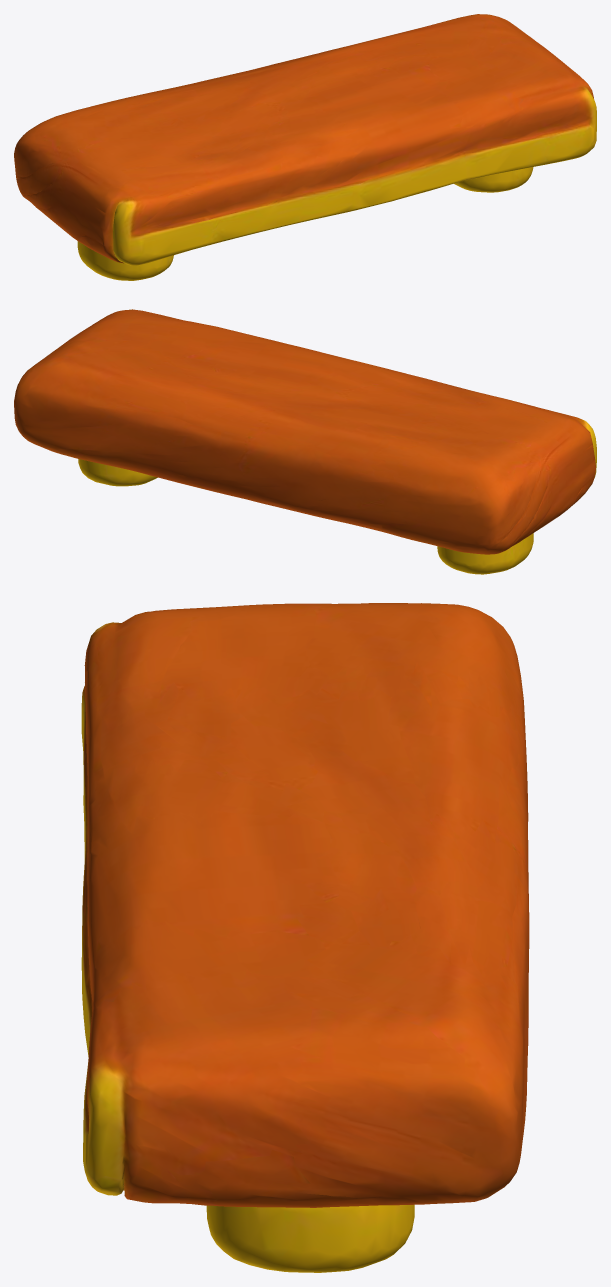
Rendered from stand.glb.
The picture shows the model from 3 angles, top to bottom: view 1: azimuth 30°, elevation 25°; view 2: azimuth 150°, elevation 25°; view 3: azimuth 270°, elevation 25°; orthographic projection. The views are drawn at different scales.
Parts seen in each view (by area): view 1: tripo_node_041e8c02-def2-422d-b363-254a2c29f51b; view 2: tripo_node_041e8c02-def2-422d-b363-254a2c29f51b; view 3: tripo_node_041e8c02-def2-422d-b363-254a2c29f51b.
Boxes of the visible parts, left/top/right/bottom form: tripo_node_041e8c02-def2-422d-b363-254a2c29f51b: left=14, top=14, right=596, bottom=280; tripo_node_041e8c02-def2-422d-b363-254a2c29f51b: left=14, top=309, right=596, bottom=574; tripo_node_041e8c02-def2-422d-b363-254a2c29f51b: left=81, top=603, right=529, bottom=1272.
Bounding box in the file's own units: 0.9797 × 0.2417 × 0.3806.
Materials: 1 (1 with a texture image).
